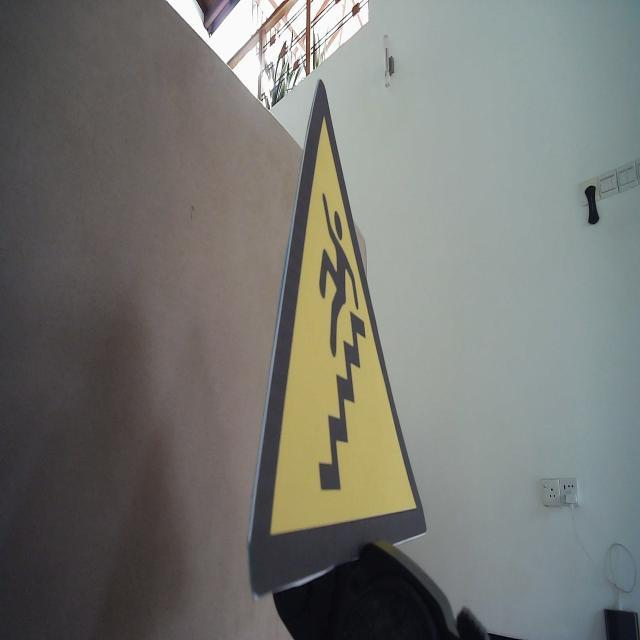stairs: (247, 77, 428, 606)
